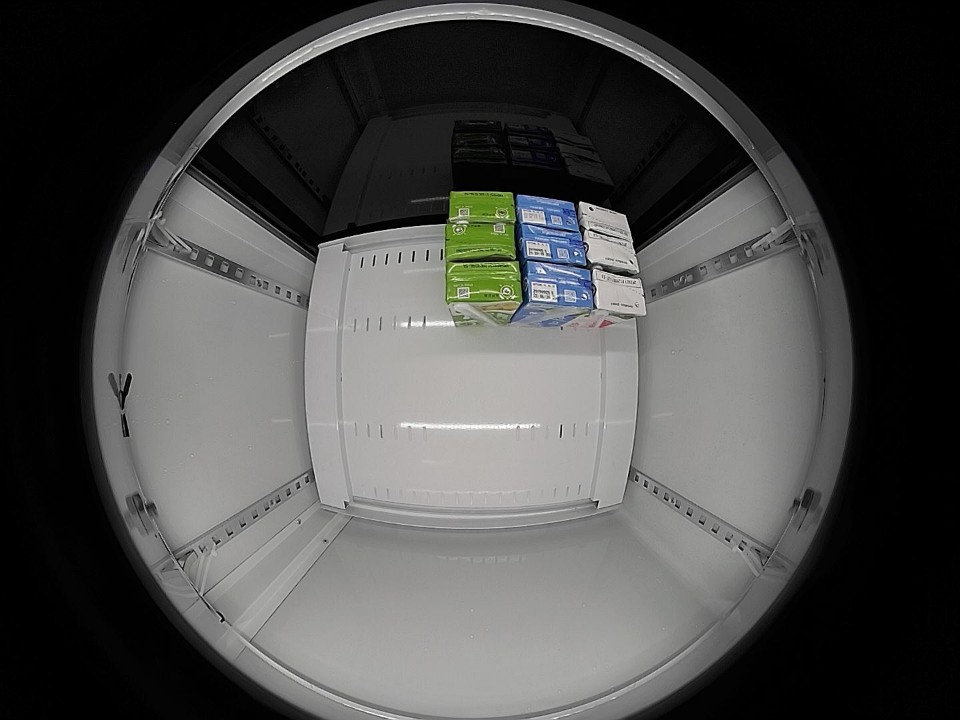mengniu: (590, 268, 648, 322), (583, 231, 641, 273), (576, 201, 634, 242)
mengniuzaocan: (445, 261, 521, 306), (446, 223, 516, 260), (448, 192, 516, 225)
weitanai: (523, 261, 594, 313), (518, 224, 587, 266), (515, 195, 580, 233)
